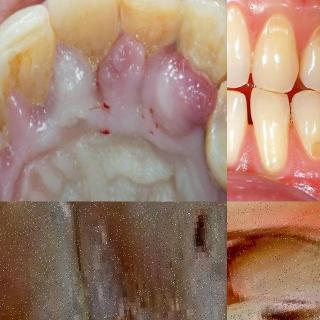Gum Swelling: (6, 36, 218, 144), (275, 127, 320, 187), (281, 0, 320, 60), (236, 0, 278, 49), (233, 126, 268, 172)
calculus: (0, 14, 58, 112), (57, 0, 121, 67), (180, 0, 227, 79), (118, 0, 177, 61), (199, 66, 227, 182)
cavities: (149, 202, 225, 276), (227, 303, 320, 320)
